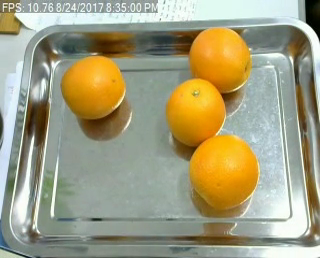Orange: (188, 135, 260, 208), (187, 26, 251, 94), (61, 56, 127, 118), (166, 79, 226, 146)
